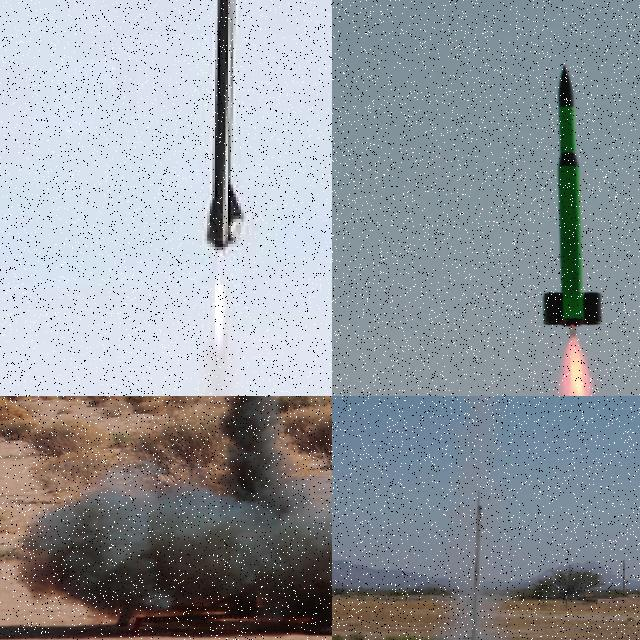Rocket: (542, 65, 604, 328), (201, 0, 249, 261)
